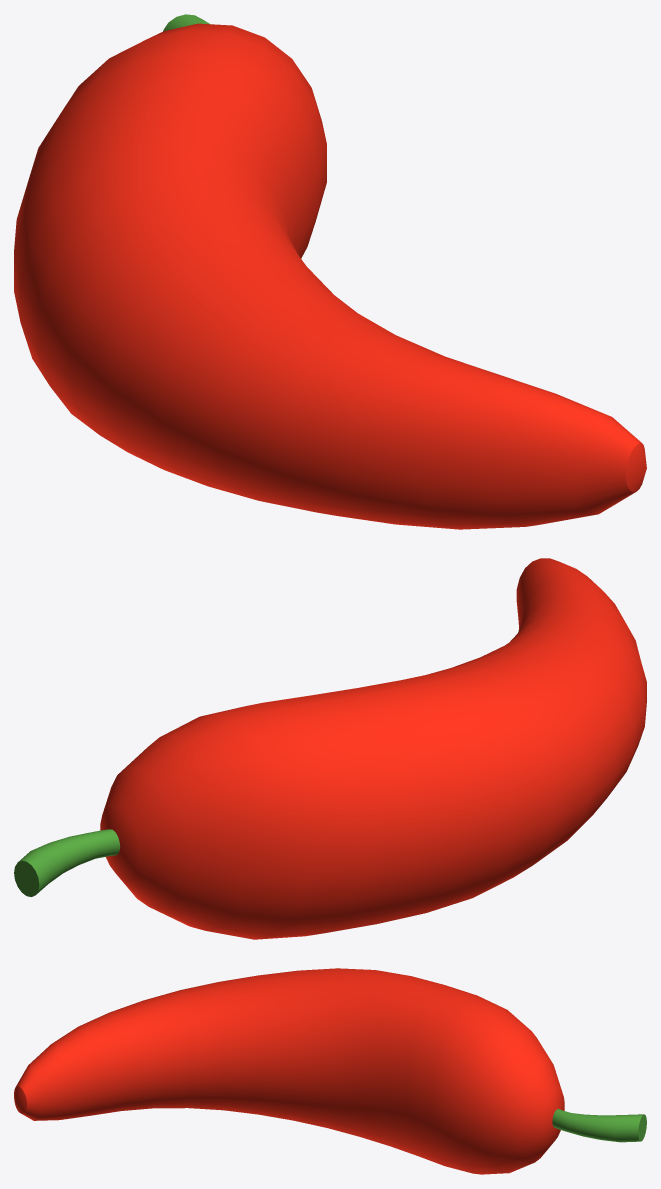
Rendered from Pepper Red.fbx.
3 renders of one model, top to bottom at view 1: azimuth 30°, elevation 25°; view 2: azimuth 150°, elevation 25°; view 3: azimuth 270°, elevation 25°, orthographic. The views are drawn at different scales.
Parts seen in each view (by area): view 1: Pepper Red; view 2: Pepper Red; view 3: Pepper Red.
Boxes of the visible parts, box(x1,y1,x2,y2) form: Pepper Red: box(14, 14, 646, 529); Pepper Red: box(14, 558, 646, 939); Pepper Red: box(14, 968, 646, 1174).
Bounding box in the file's own units: 0.3449 × 0.2118 × 0.7584.
